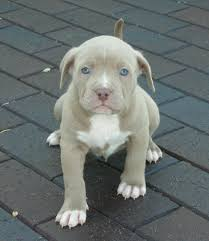Perro Pitbull: (46, 17, 165, 234)
